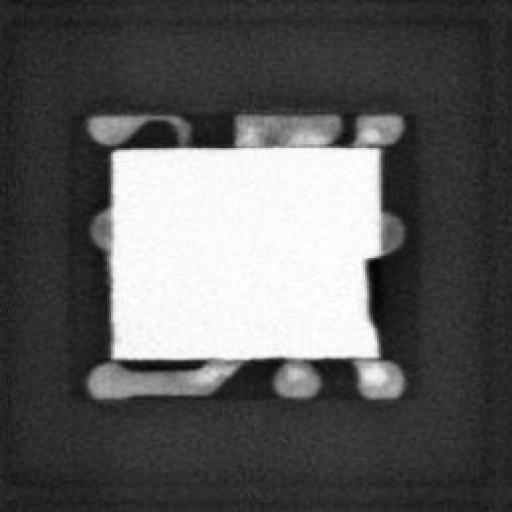DIE_BROKEN: (359, 252, 381, 330)
